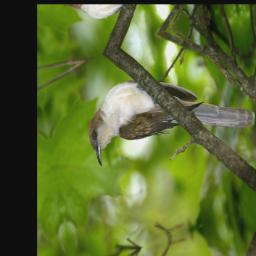Cuckoo: (81, 36, 256, 184)
